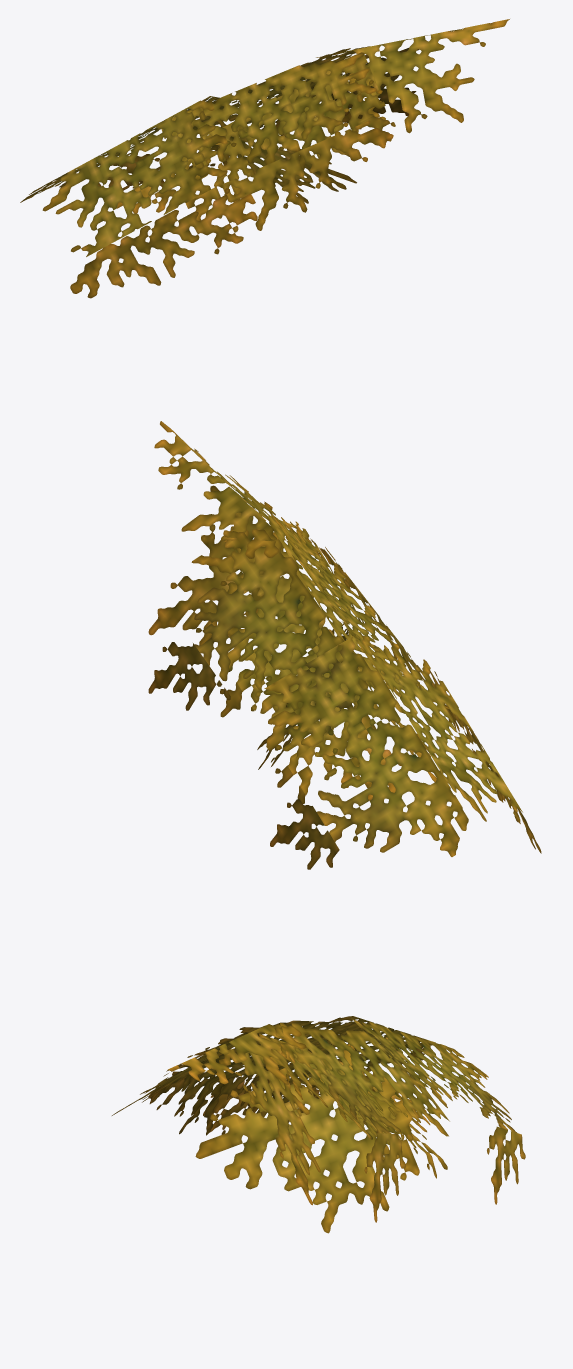
File: larch_leaves_5.obj
The picture shows the model from 3 angles, top to bottom: view 1: azimuth 30°, elevation 25°; view 2: azimuth 150°, elevation 25°; view 3: azimuth 270°, elevation 25°; orthographic projection. The views are drawn at different scales.
Parts seen in each view (by area): view 1: plane, cube; view 2: plane, cube; view 3: plane, cube.
Part boxes in pixels (x1=…): plane: x1=20, y1=19, x2=509, y2=298; cube: x1=212, y1=48, x2=419, y2=203; plane: x1=148, y1=421, x2=541, y2=869; cube: x1=148, y1=485, x2=348, y2=769; plane: x1=112, y1=1016, x2=525, y2=1222; cube: x1=195, y1=1042, x2=419, y2=1233.
Bounding box in the file's own units: 3.44 × 2.1 × 2.65.
